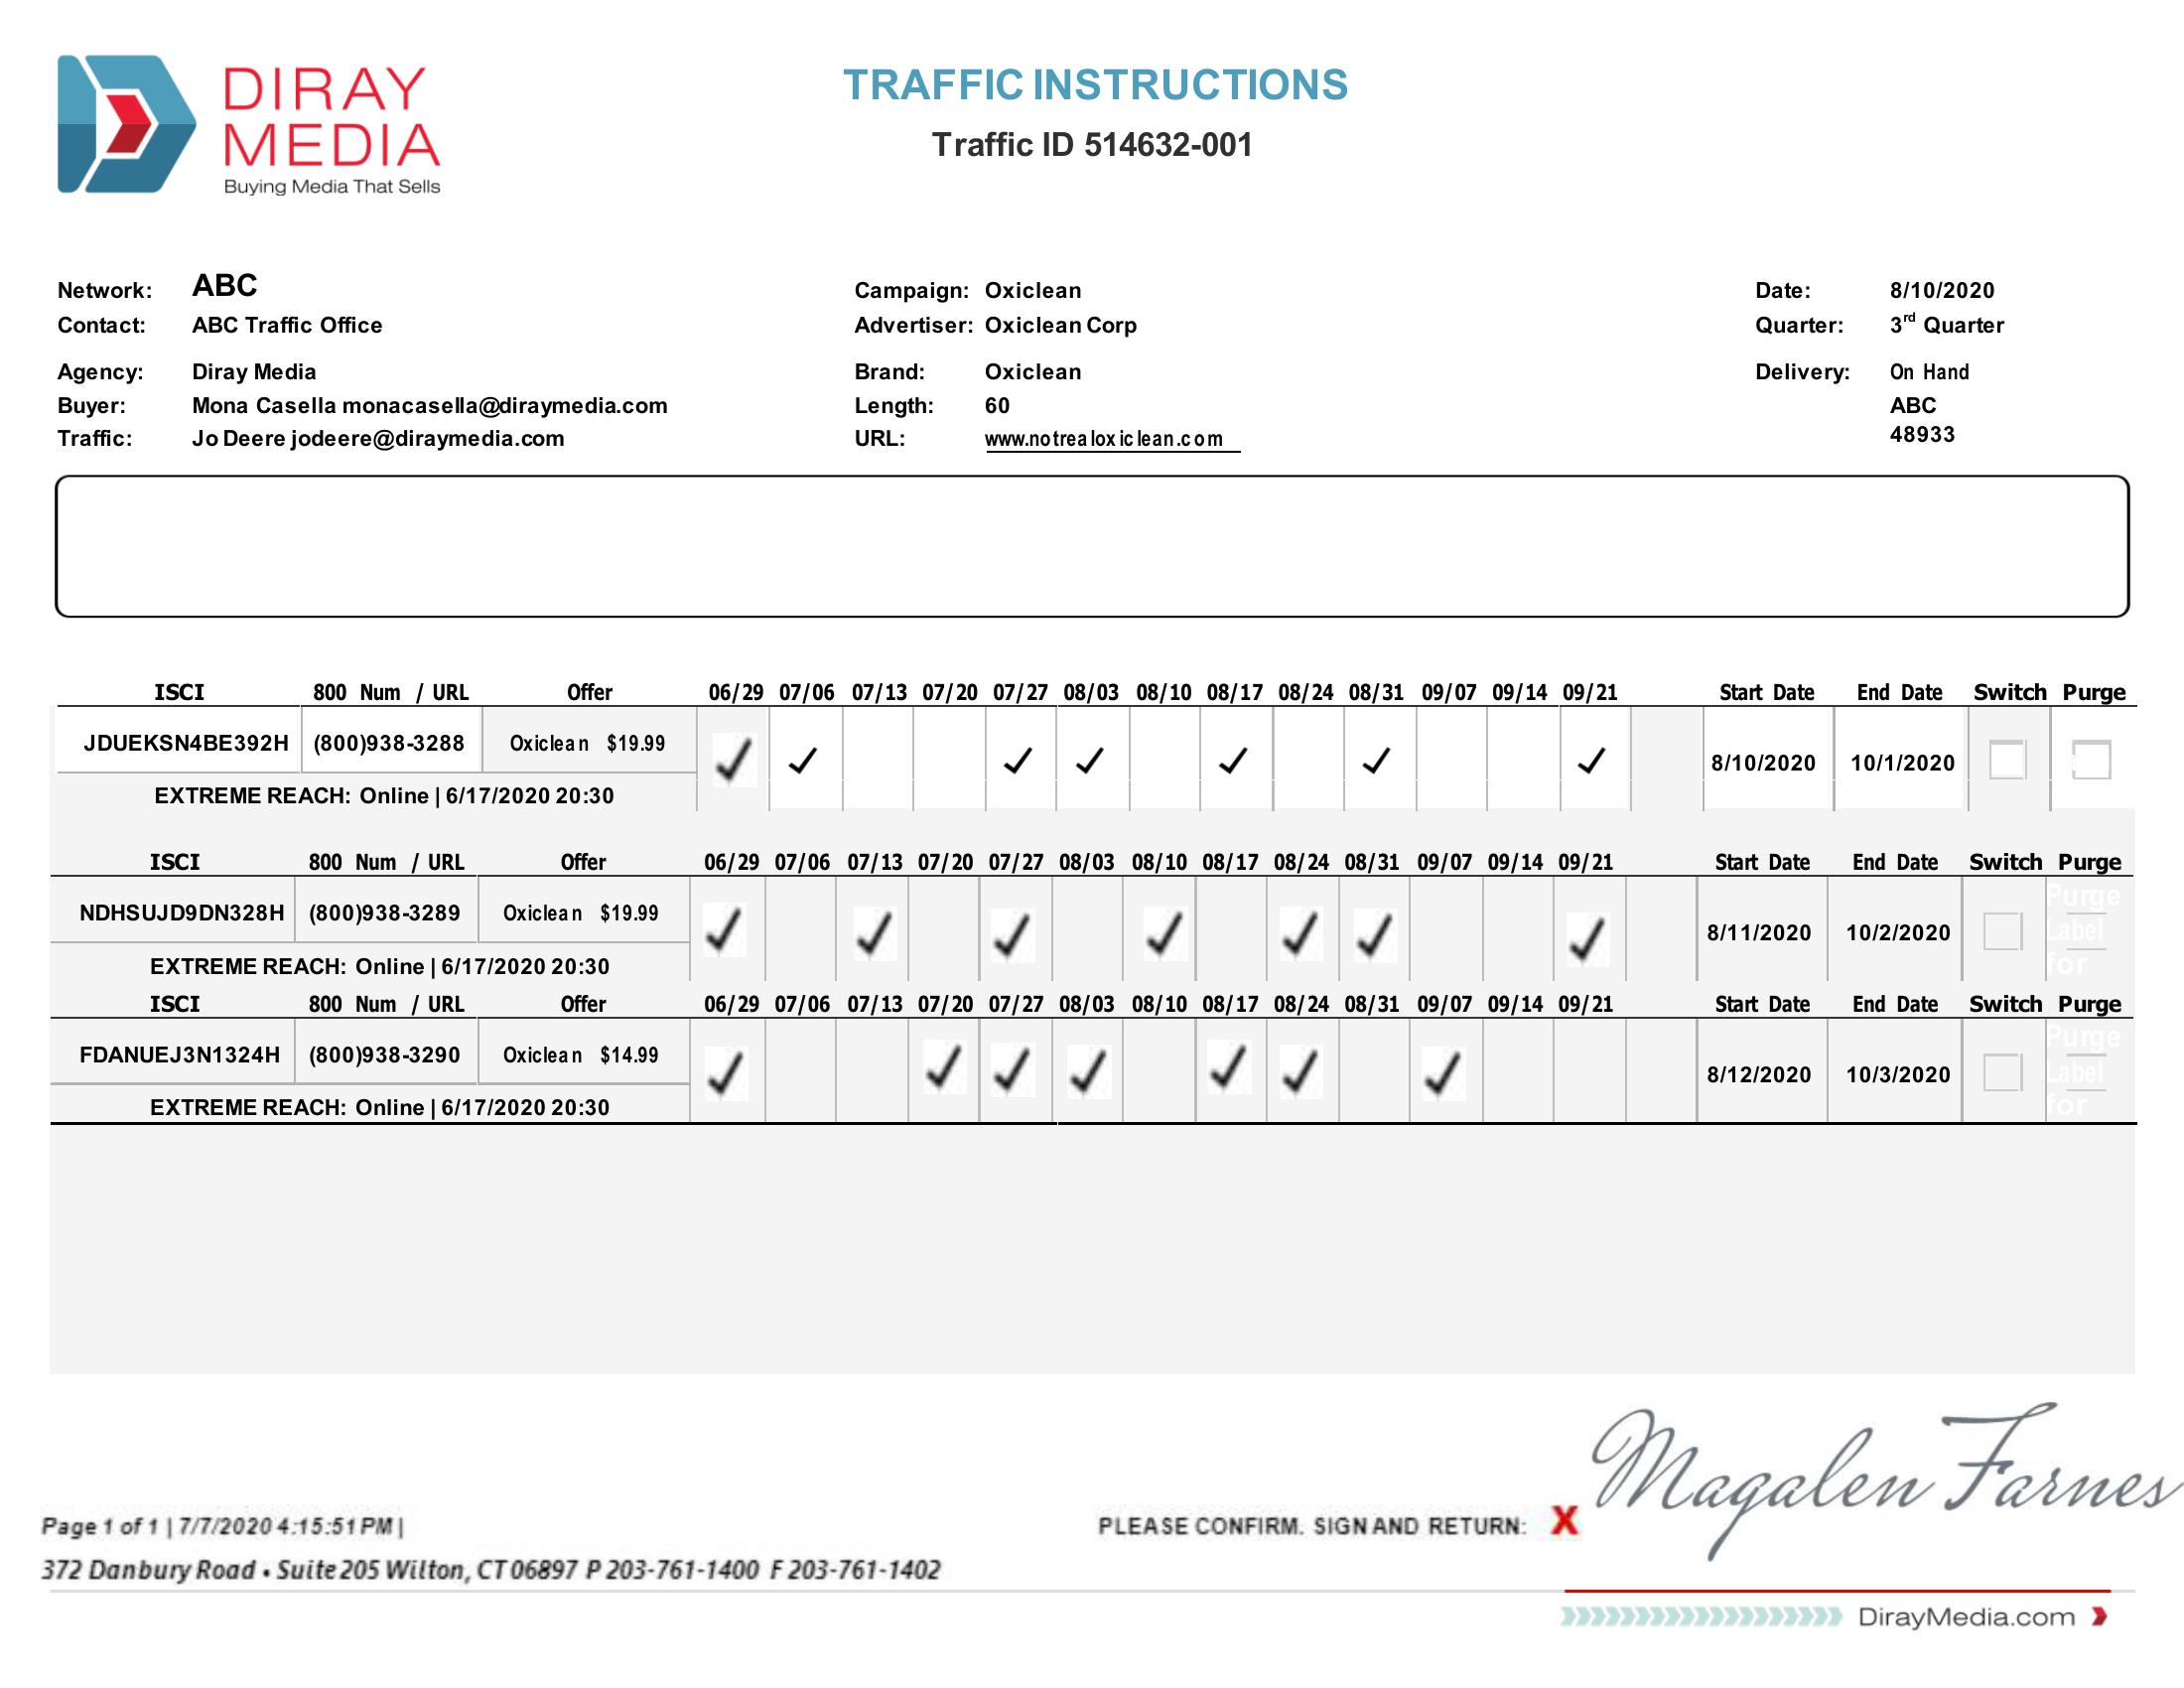table: (34, 656, 2156, 1161), (44, 262, 2026, 465)
